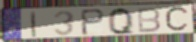3: (53, 9, 77, 37)
B: (137, 7, 162, 34)
C: (163, 5, 190, 34)
I: (29, 11, 38, 39)
P: (80, 8, 106, 37)
Q: (106, 7, 136, 36)
